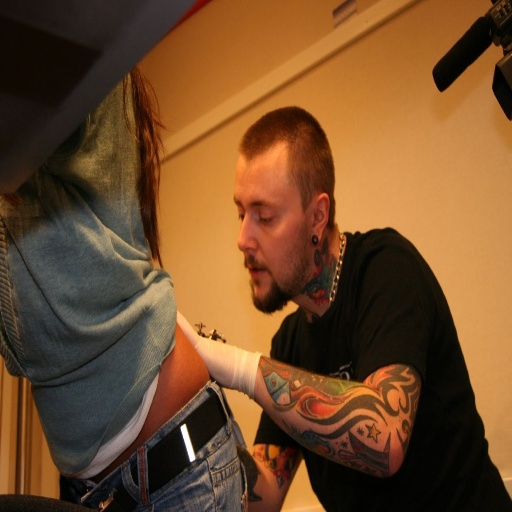hand: (176, 306, 206, 360)
